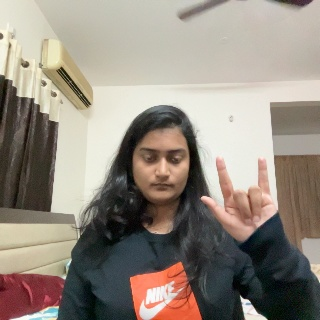Face: (129, 120, 189, 204)
I Love You: (203, 156, 288, 253)
